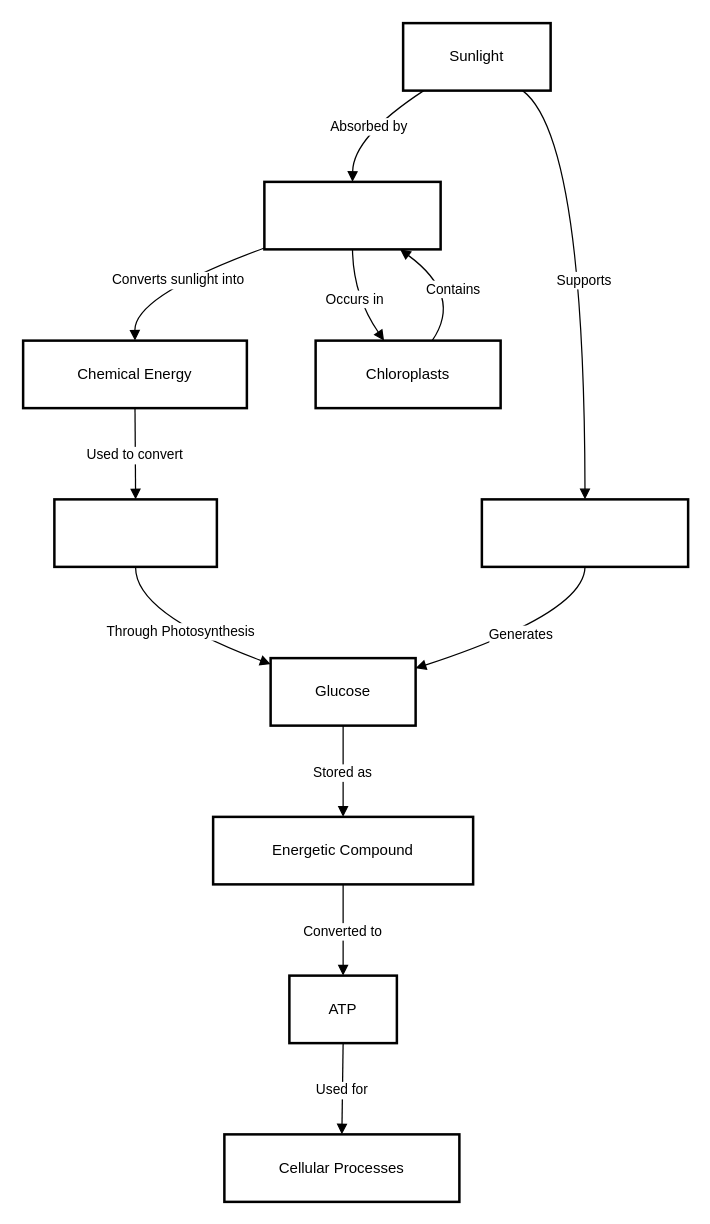
This 710x1224 diagram has some shape labels left out. Each missing label, with the centre of its shape:
Chlorophyll: point 351,215
CO₂ + H₂O: point 135,533
Photosynthesis: point 584,533
